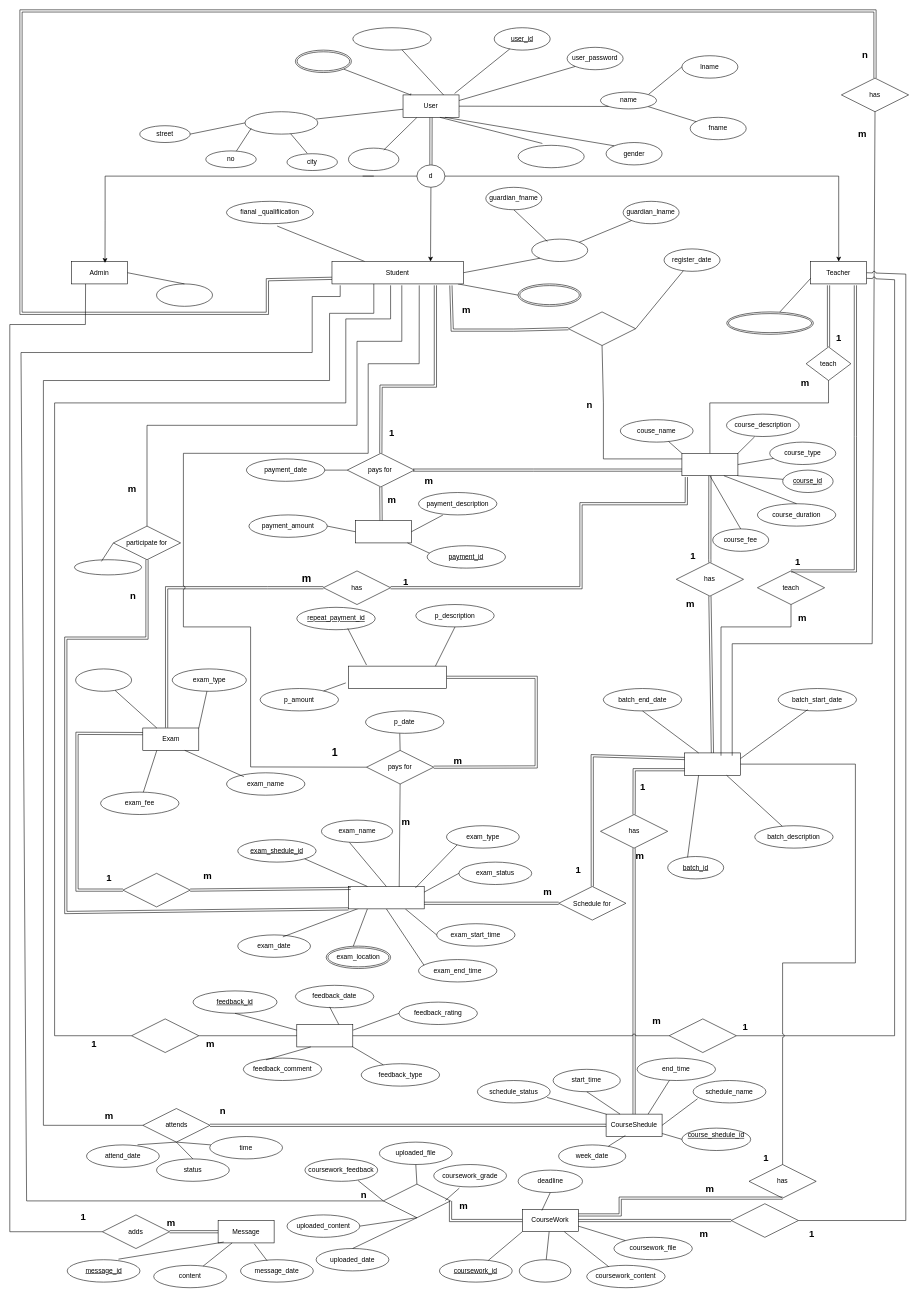
The diagram is 922 pixels wide and 1298 high, and some of its shapes have lost their labels. The centre of each missing label's shape, as x and y in pixels:
"address" goes at [281,122].
"Batch" goes at [712,763].
"Can Send" goes at [165,1035].
"Course" goes at [709,464].
"date" goes at [545,1270].
"description" goes at [184,294].
"dob" goes at [551,156].
"exam_id" goes at [103,679].
"ExamSchedule" goes at [386,897].
"Feedback" goes at [324,1035].
"gets" goes at [156,890].
"grade" goes at [108,567].
"guardian_mobile" goes at [549,294].
"guardian_name" goes at [559,250].
"id_number" goes at [373,159].
"manage" goes at [764,1220].
"mobile" goes at [323,61].
"Payment" goes at [383,531].
"personal_email" goes at [391,38].
"register" goes at [602,328].
"RepeatExamPayment" goes at [397,677].
"send" goes at [702,1035].
"submit" goes at [417,1201].
"teacher_specialization" goes at [769,322].
